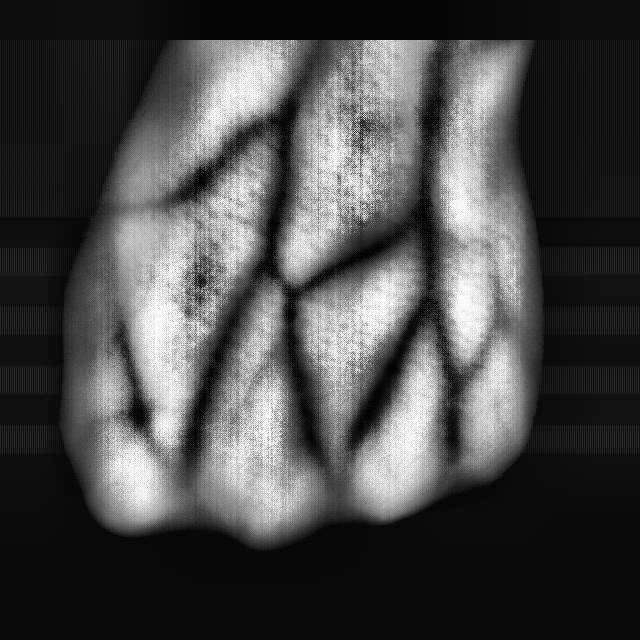Vein: (261, 68, 311, 249), (410, 70, 447, 269)
